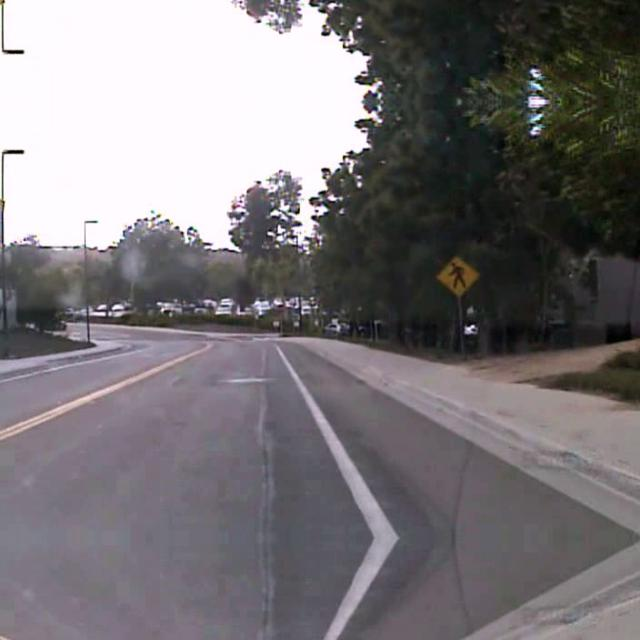pedestrianCrossing: (435, 253, 479, 295)
